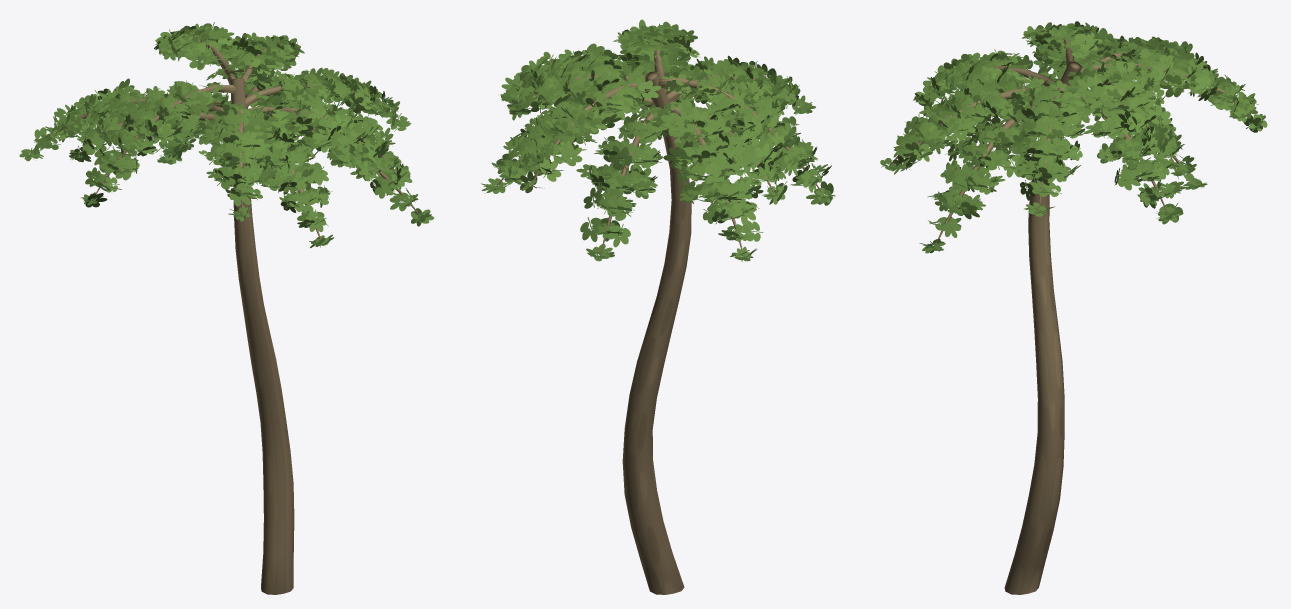
The model's file is tree.gltf.
3 renders of one model, left to right at view 1: azimuth 30°, elevation 25°; view 2: azimuth 150°, elevation 25°; view 3: azimuth 270°, elevation 25°, orthographic. The views are drawn at different scales.
Visible parts, largest first — view 1: Tree_LOD0; view 2: Tree_LOD0; view 3: Tree_LOD0.
Part boxes in pixels (<box>): Tree_LOD0: <box>19,22,434,594</box>; Tree_LOD0: <box>481,19,835,594</box>; Tree_LOD0: <box>880,21,1267,594</box>.
Size of the model in its own units: 11.2 by 16.65 by 11.42.
Materials: 2 (2 with a texture image).
